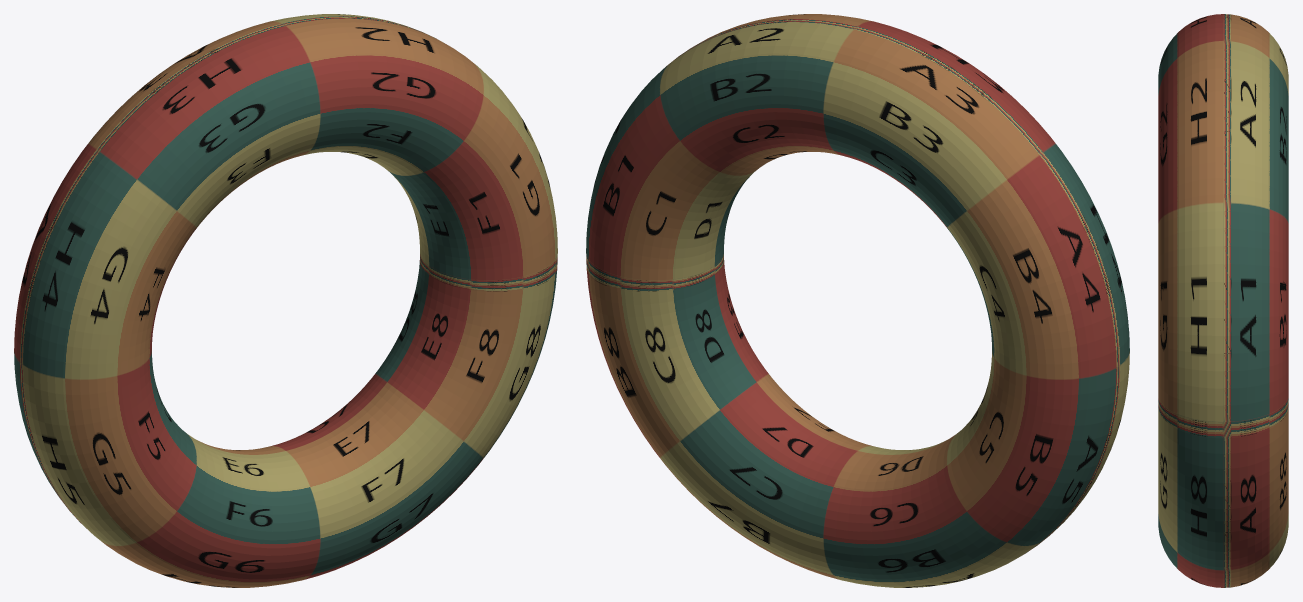
File: texture_torus_R4_r4.glb
3 renders of one model, left to right at view 1: azimuth 30°, elevation 25°; view 2: azimuth 150°, elevation 25°; view 3: azimuth 270°, elevation 25°, orthographic. The views are drawn at different scales.
Visible parts, largest first — view 1: world; view 2: world; view 3: world.
Part boxes in pixels (box(x1,y1,x2,y2)): world: box(14, 14, 557, 587); world: box(586, 14, 1129, 587); world: box(1158, 14, 1288, 587).
Size of the model in its own units: 24.44 by 24.44 by 5.54.
Materials: 1 (1 with a texture image).
